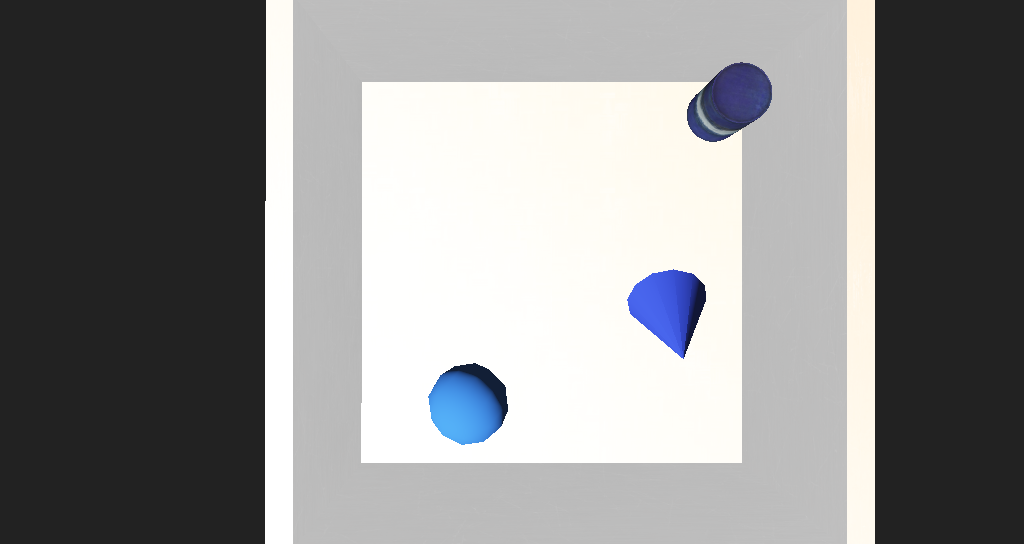cone: (616, 155, 677, 198)
cylinder: (569, 267, 643, 334)
sphere: (404, 322, 472, 365)
